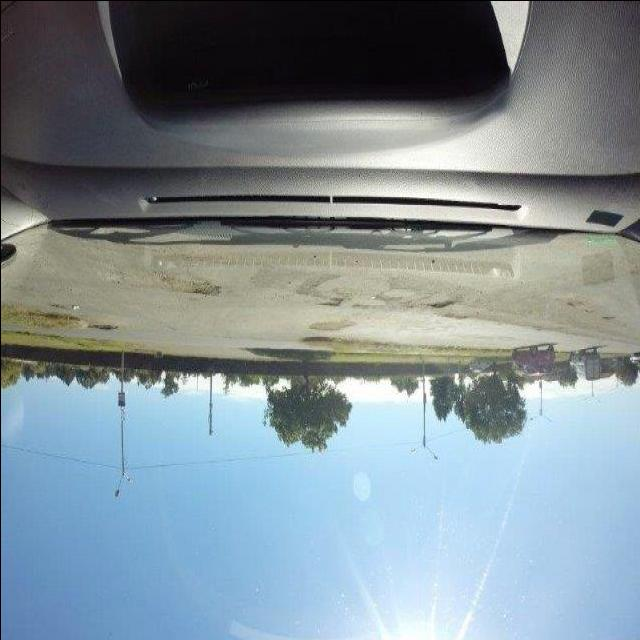lubang: (141, 268, 225, 300), (371, 284, 434, 318), (291, 269, 350, 305), (306, 313, 354, 337), (85, 315, 124, 338), (315, 288, 350, 312), (436, 308, 471, 332), (420, 290, 455, 310), (344, 299, 374, 319), (564, 295, 584, 311), (50, 297, 68, 313), (601, 309, 617, 325)
